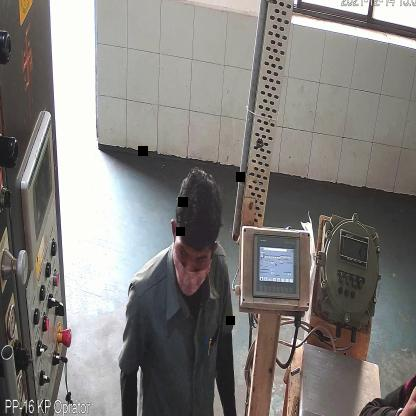no_goggles: (176, 240, 210, 268)
